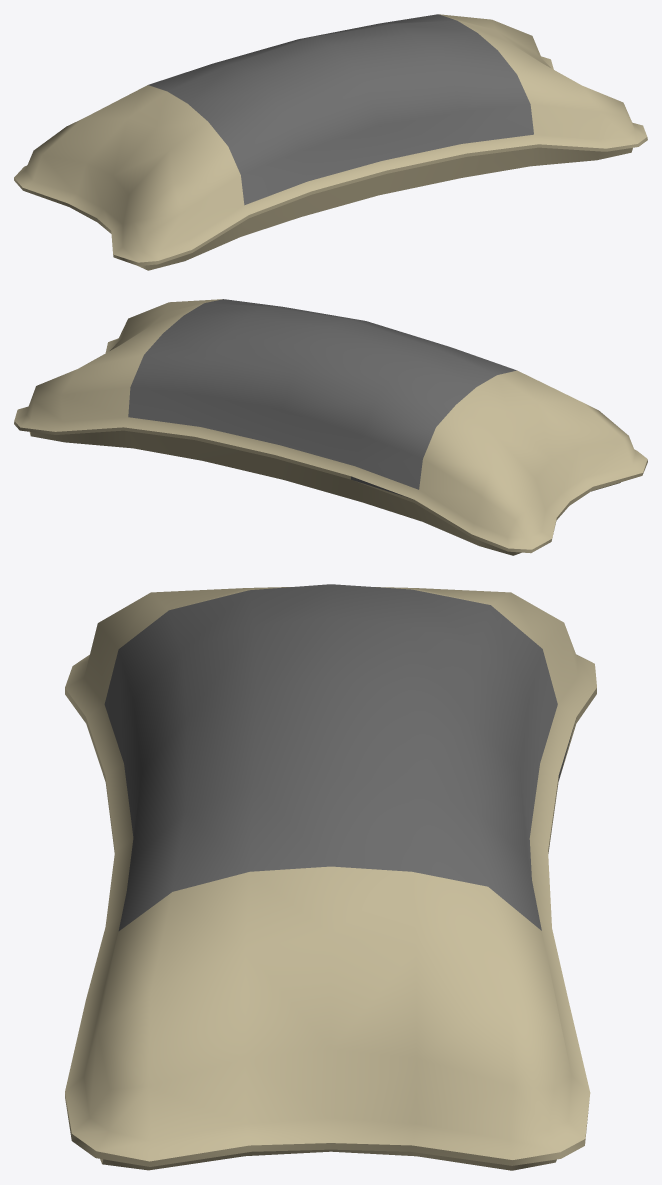
3 renders of one model, top to bottom at view 1: azimuth 30°, elevation 25°; view 2: azimuth 150°, elevation 25°; view 3: azimuth 270°, elevation 25°, orthographic. The views are drawn at different scales.
Parts seen in each view (by area): view 1: AS69; view 2: AS69; view 3: AS69.
Boxes of the visible parts, box(x1,y1,x2,y2) form: AS69: box(14, 14, 647, 270); AS69: box(14, 299, 647, 555); AS69: box(65, 584, 596, 1170).
Bounding box in the file's own units: 115 × 50 × 27.5.
